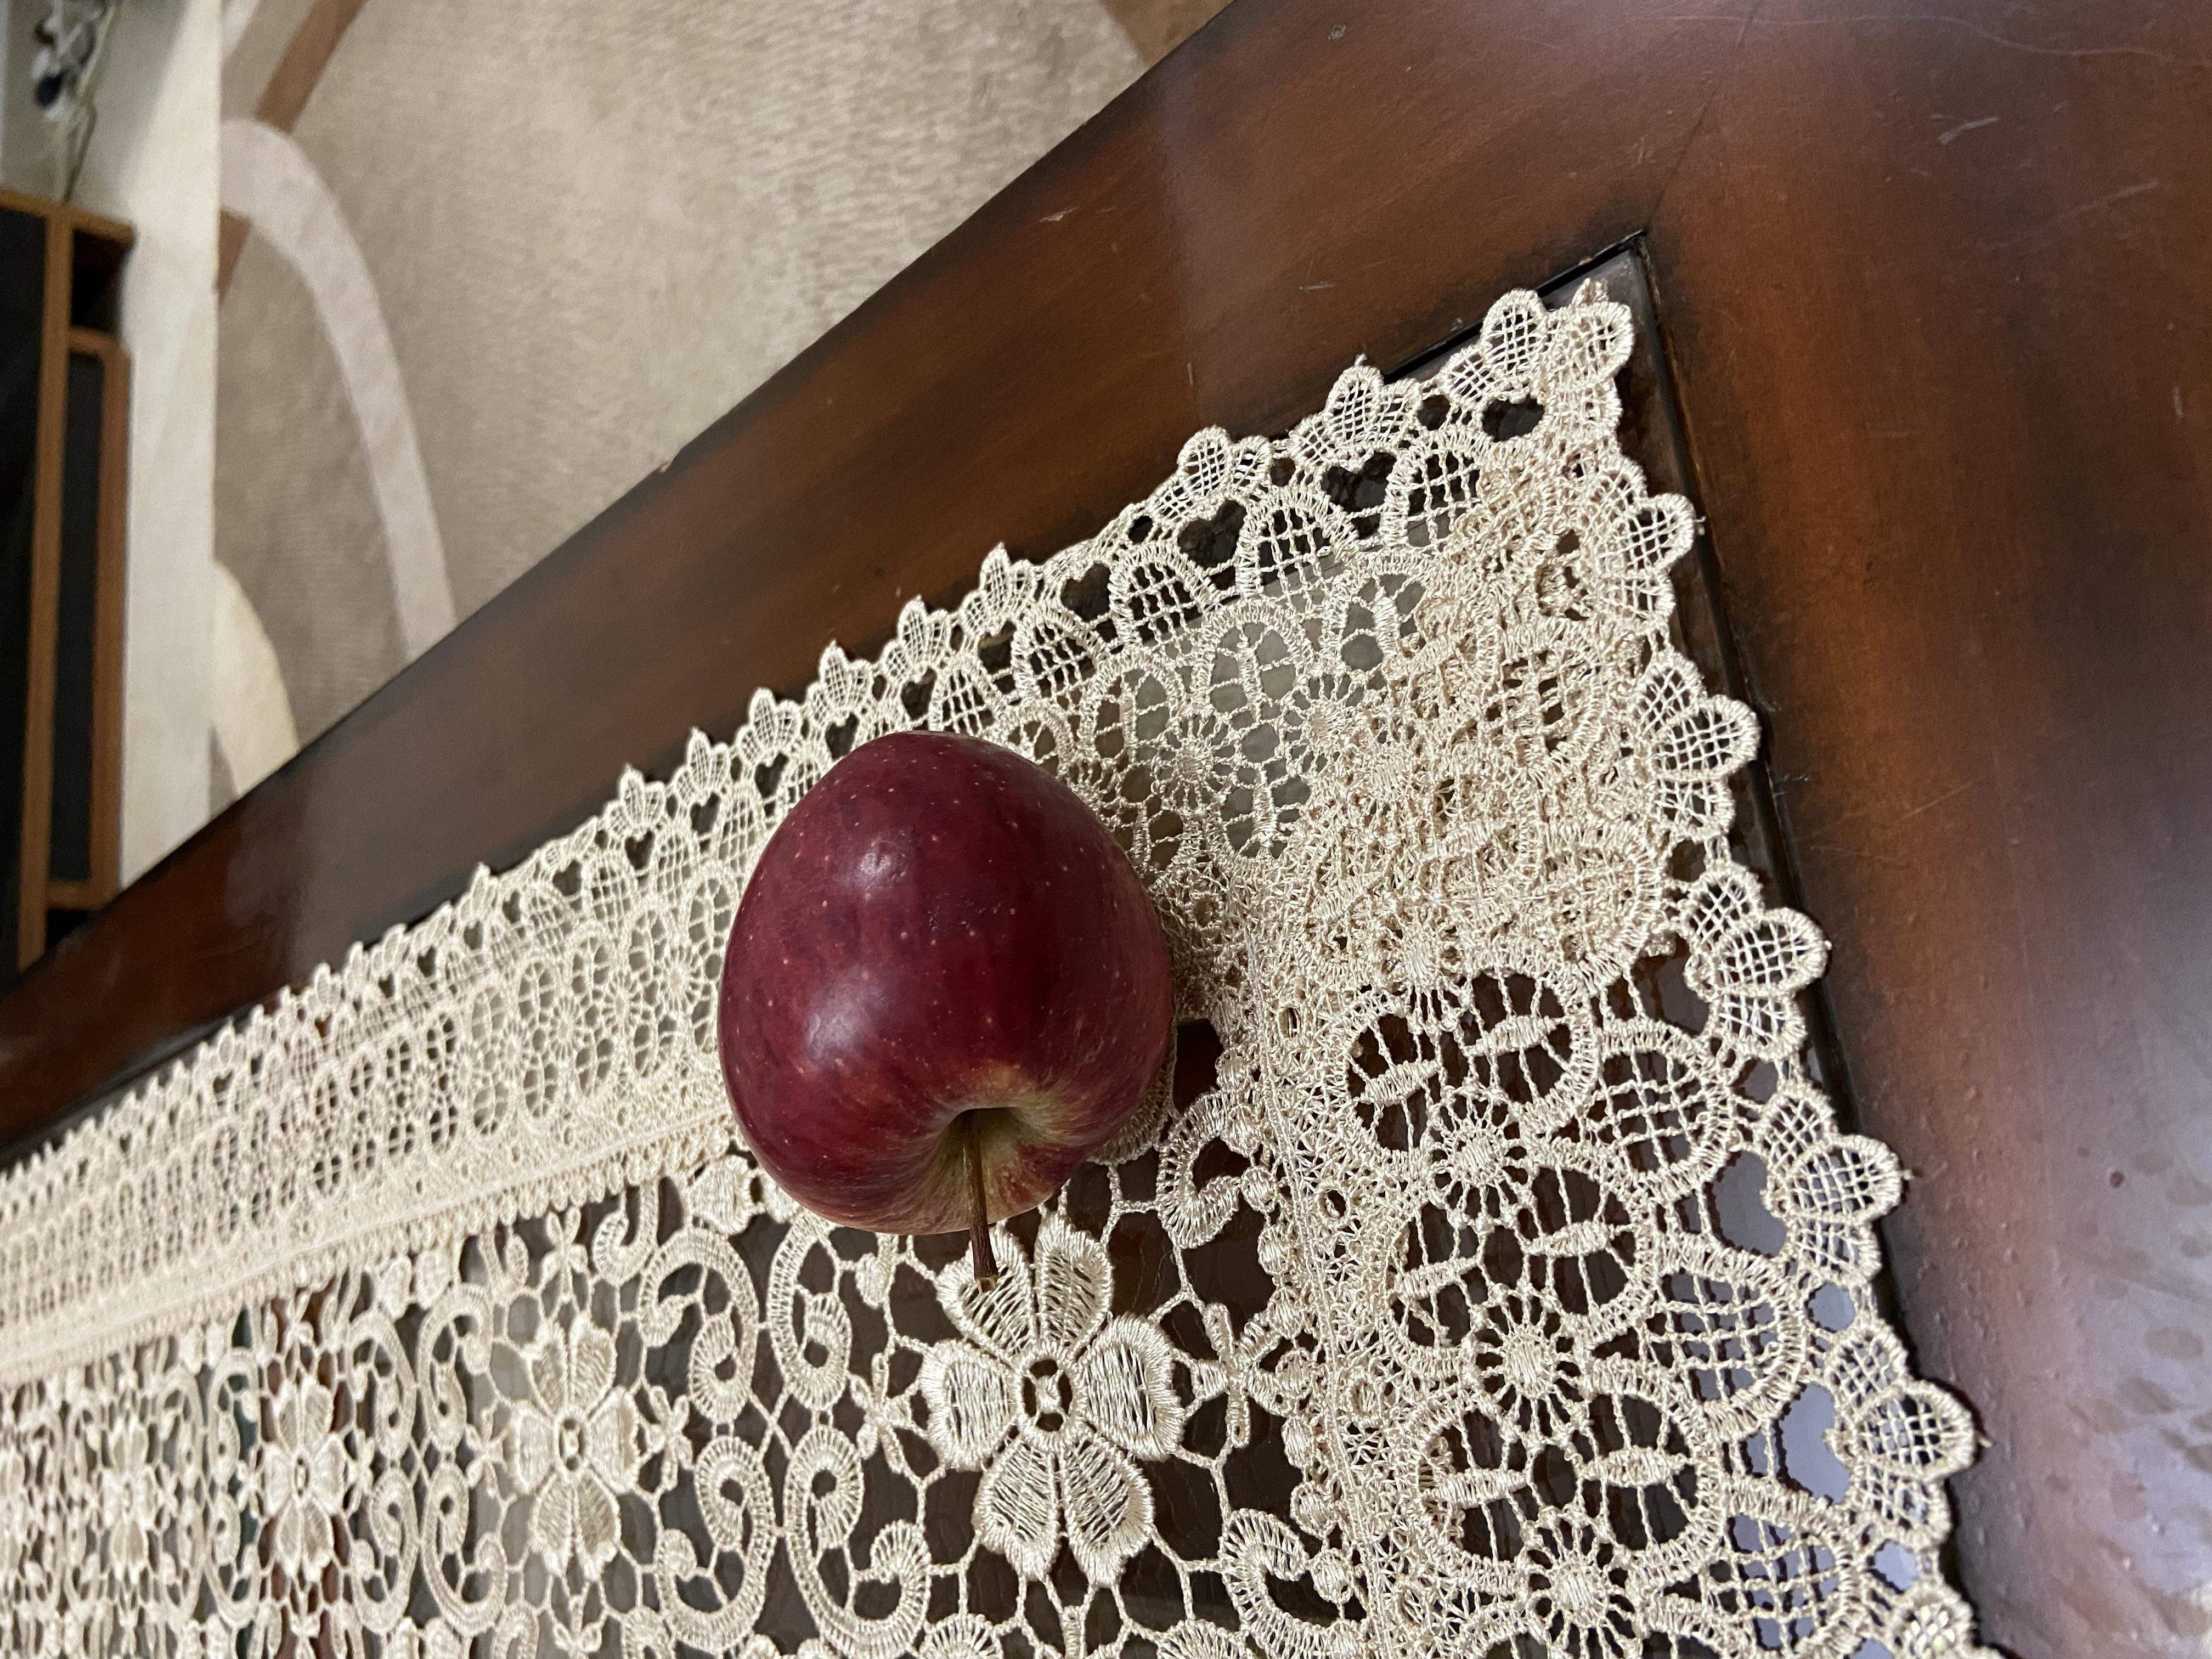Apple: (449, 523, 1245, 897)
